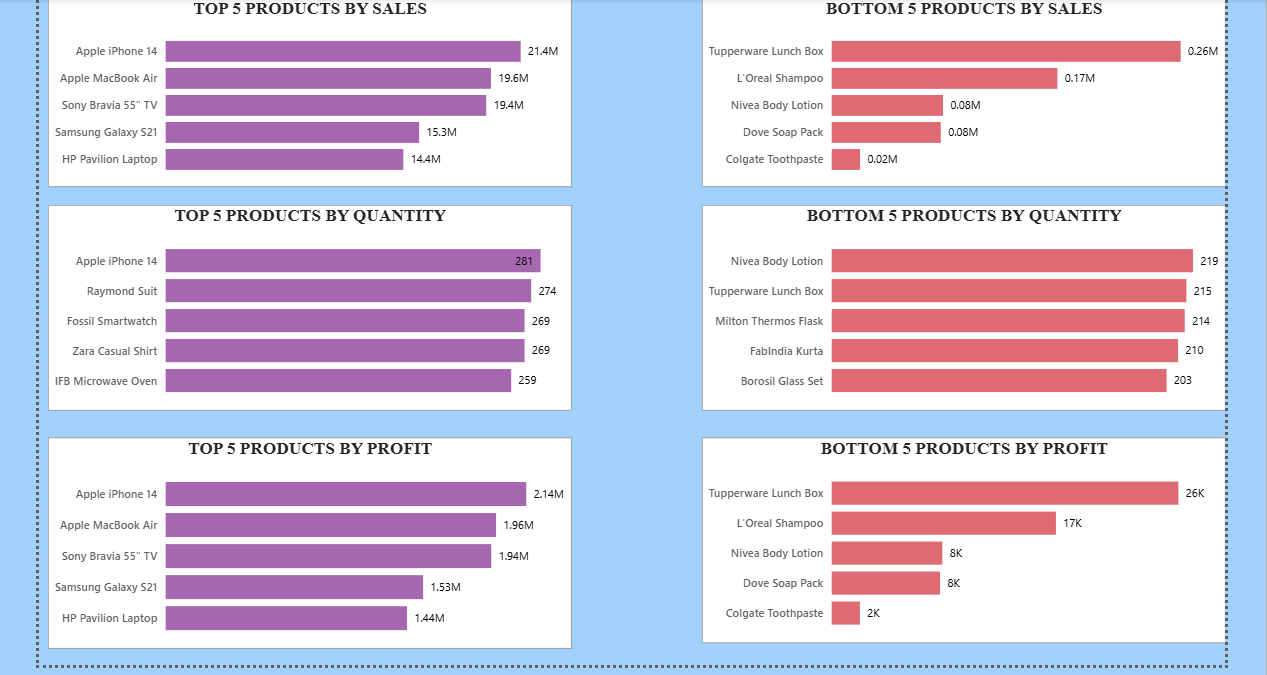

What the dashboard file says about the page in this screenshot:
{"tool":"powerbi","page":{"name":"TOP/BOTTOM 5 ANALYSIS","canvas":[1280,720],"ordinal":1},"visuals":[{"type":"barChart","title":"TOP 5 PRODUCTS BY SALES","fields":{"Category":["Dim Product.Product Name"],"Y":["Sum(FACT TABLE.Net Sales)"]},"box":[9.7,0,565.1,204],"z":0},{"type":"barChart","title":"BOTTOM 5 PRODUCTS BY SALES","fields":{"Category":["Dim Product.Product Name"],"Y":["Sum(FACT TABLE.Net Sales)"]},"box":[715.7,0,565.1,204],"z":1000},{"type":"barChart","title":"TOP 5 PRODUCTS BY QUANTITY","fields":{"Category":["Dim Product.Product Name"],"Y":["Sum(FACT TABLE.Units Sold)"]},"box":[9.7,223.5,565.1,221.8],"z":2000},{"type":"barChart","title":"BOTTOM 5 PRODUCTS BY QUANTITY","fields":{"Category":["Dim Product.Product Name"],"Y":["Sum(FACT TABLE.Units Sold)"]},"box":[715.7,223.5,565.1,221.8],"z":3000},{"type":"barChart","title":"TOP 5 PRODUCTS BY PROFIT","fields":{"Category":["Dim Product.Product Name"],"Y":["Sum(FACT TABLE.Profit)"]},"box":[9.7,474.4,565.1,228.3],"z":4000},{"type":"barChart","title":"BOTTOM 5 PRODUCTS BY PROFIT","fields":{"Category":["Dim Product.Product Name"],"Y":["Sum(FACT TABLE.Profit)"]},"box":[715.7,474.4,565.1,221.8],"z":5000}]}

Visuals, with their boxes on the page's 1280x720 design canvas (x1, y1, x2, y2). These are canvas units, not pixel positions in the 1267x675 screenshot, which may show the page scaled, cropped or inside an application window:
"TOP 5 PRODUCTS BY SALES" barChart: BBox(10, 0, 575, 204)
"BOTTOM 5 PRODUCTS BY SALES" barChart: BBox(716, 0, 1281, 204)
"TOP 5 PRODUCTS BY QUANTITY" barChart: BBox(10, 224, 575, 445)
"BOTTOM 5 PRODUCTS BY QUANTITY" barChart: BBox(716, 224, 1281, 445)
"TOP 5 PRODUCTS BY PROFIT" barChart: BBox(10, 474, 575, 703)
"BOTTOM 5 PRODUCTS BY PROFIT" barChart: BBox(716, 474, 1281, 696)
